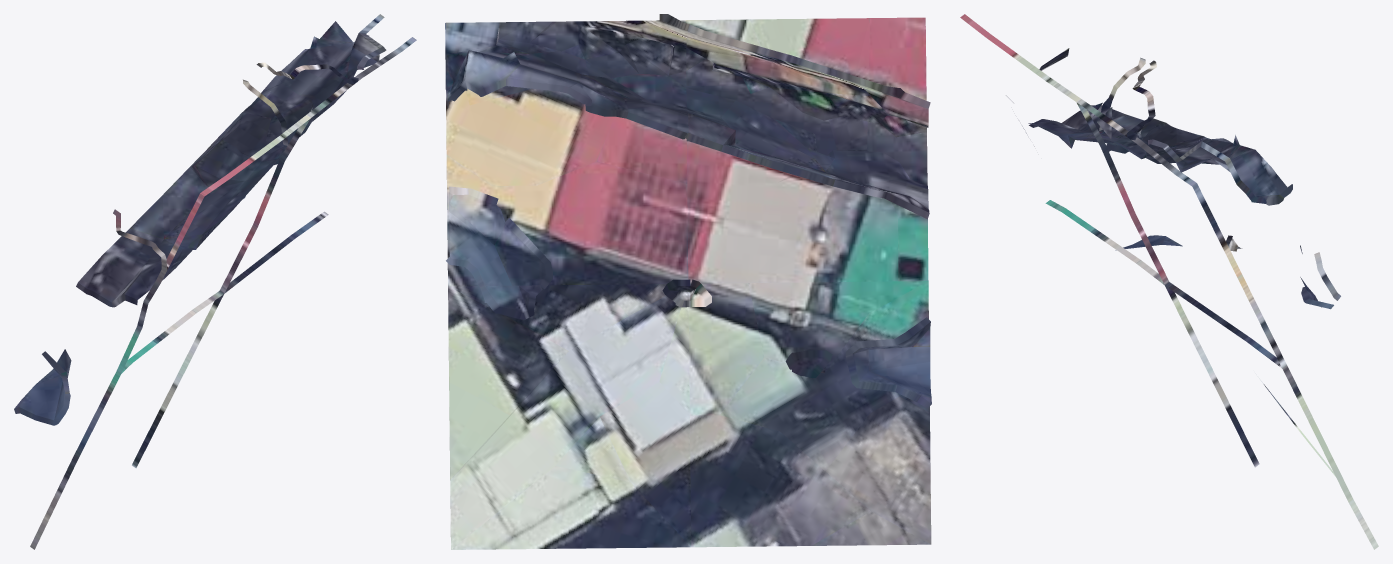
The picture shows the model from 3 angles, left to right: view 1: azimuth 30°, elevation 25°; view 2: azimuth 150°, elevation 25°; view 3: azimuth 270°, elevation 25°; orthographic projection. The views are drawn at different scales.
Size of the model in its own units: 38.95 by 37.78 by 31.83.
1 material, 1 textured.
